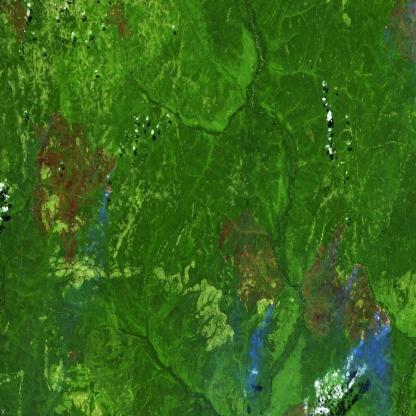fire: (358, 297, 393, 347), (100, 177, 117, 202), (350, 258, 363, 277), (264, 295, 278, 311)
